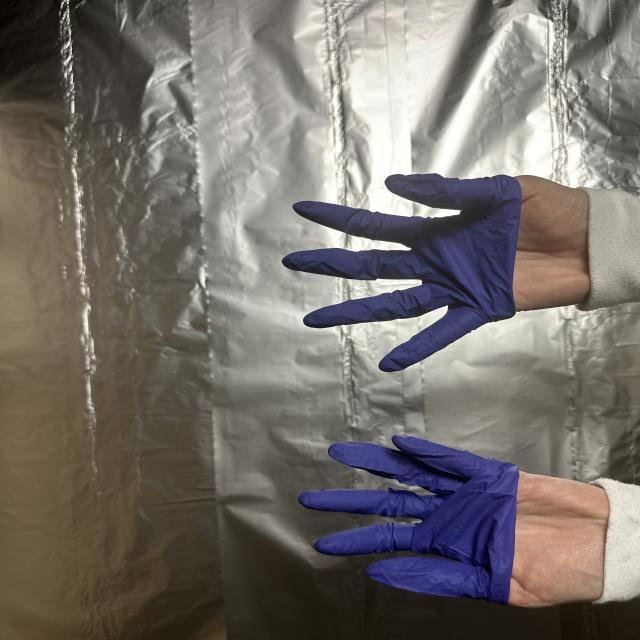glove_partial: (284, 166, 596, 375), (290, 432, 613, 608)
